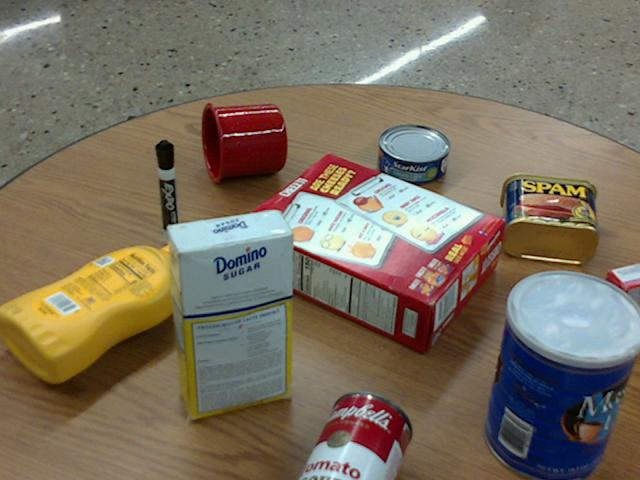cracker_box: (240, 153, 502, 347)
gelatin_box: (591, 262, 639, 343)
large_marker: (156, 139, 179, 243)
master_chef_can: (484, 271, 639, 479)
mug: (201, 102, 287, 183)
mustard_bottle: (0, 244, 198, 381)
potted_meat_can: (501, 171, 598, 264)
sugar_box: (167, 210, 291, 417)
tomato_soup_can: (300, 390, 412, 479)
tuna_fish_can: (378, 124, 450, 182)
